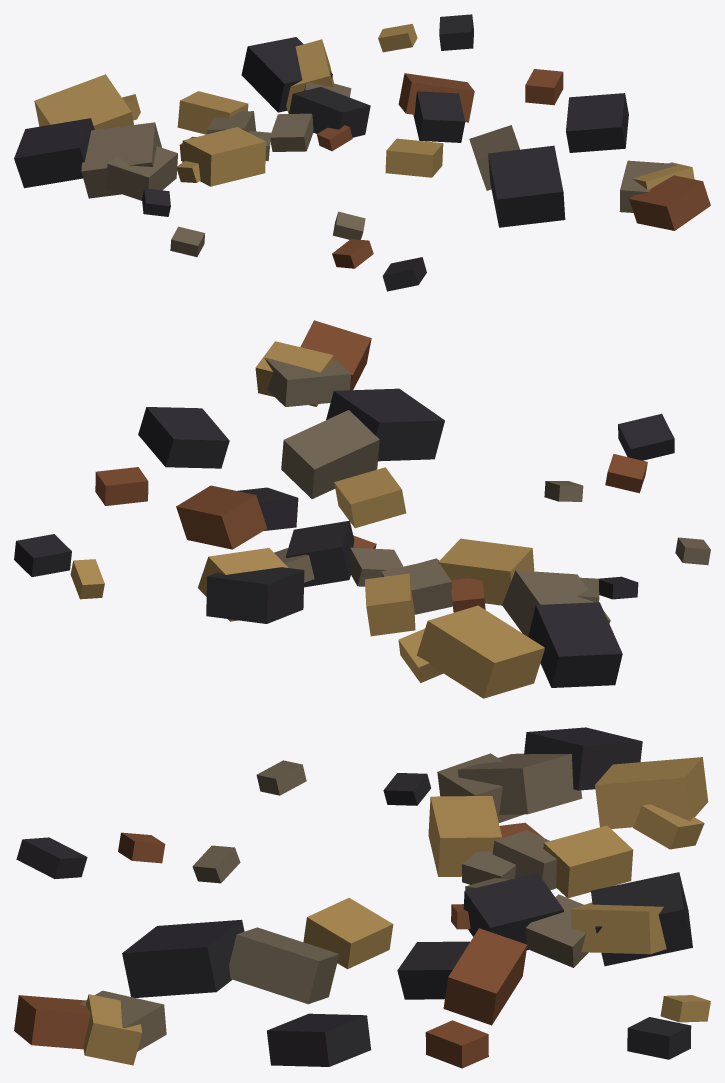
Rendered from soegol_scree.glb.
3 renders of one model, top to bottom at view 1: azimuth 30°, elevation 25°; view 2: azimuth 150°, elevation 25°; view 3: azimuth 270°, elevation 25°, orthographic. The views are drawn at different scales.
Parts seen in each view (by area): view 1: soegol_scree; view 2: soegol_scree; view 3: soegol_scree.
Boxes of the visible parts, bbox=[...] form: soegol_scree: bbox=[14, 14, 710, 291]; soegol_scree: bbox=[14, 320, 710, 698]; soegol_scree: bbox=[14, 727, 710, 1068].
Bounding box in the file's own units: 3.15 × 0.3387 × 2.84.
